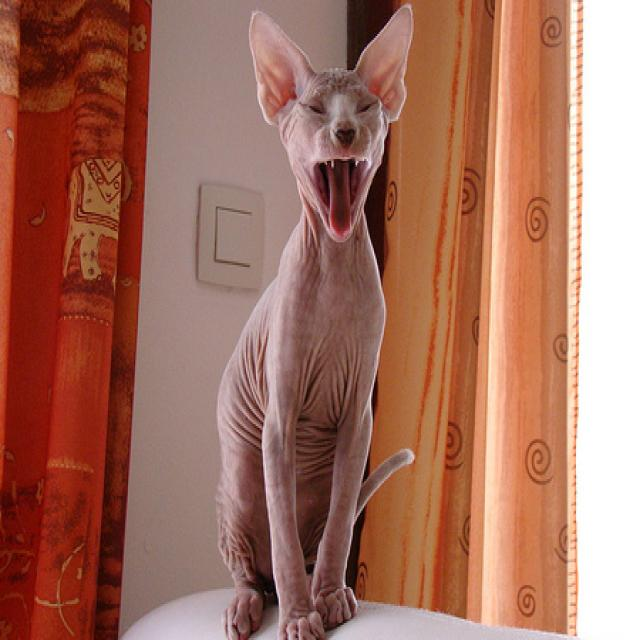Sphynx: (218, 2, 418, 640)
